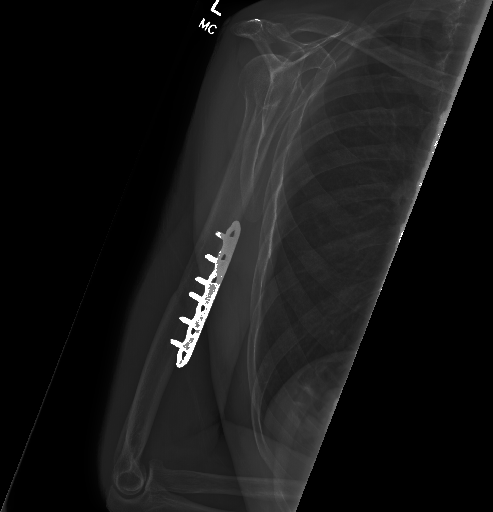implant: (165, 215, 246, 366)
